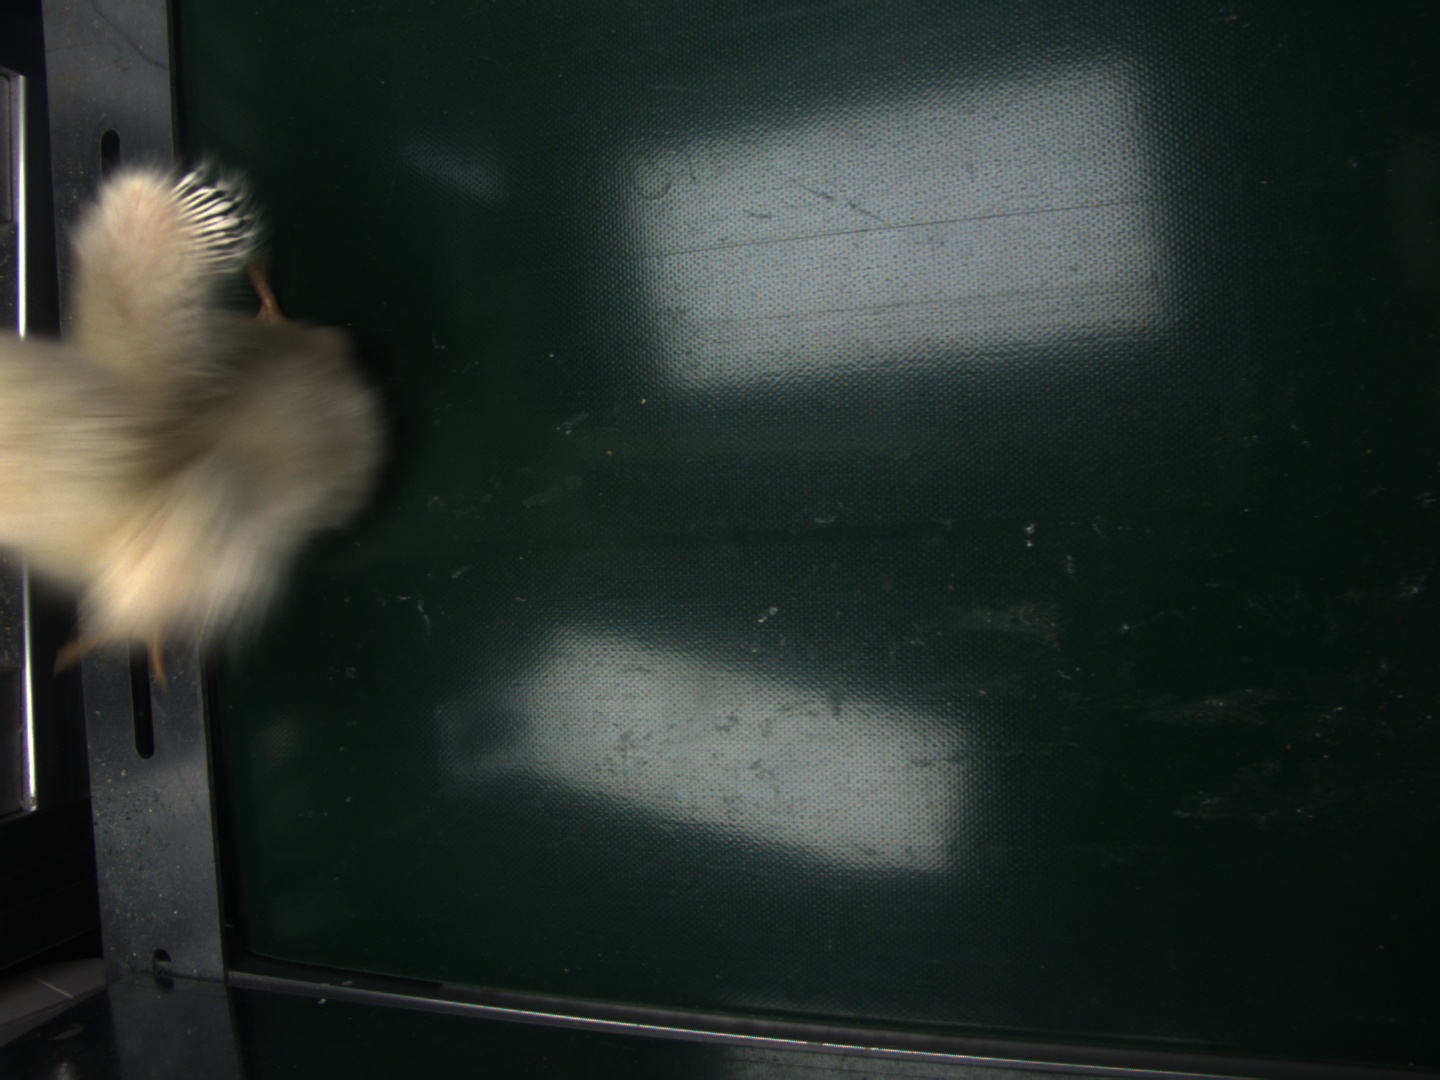male: (164, 168, 240, 275)
